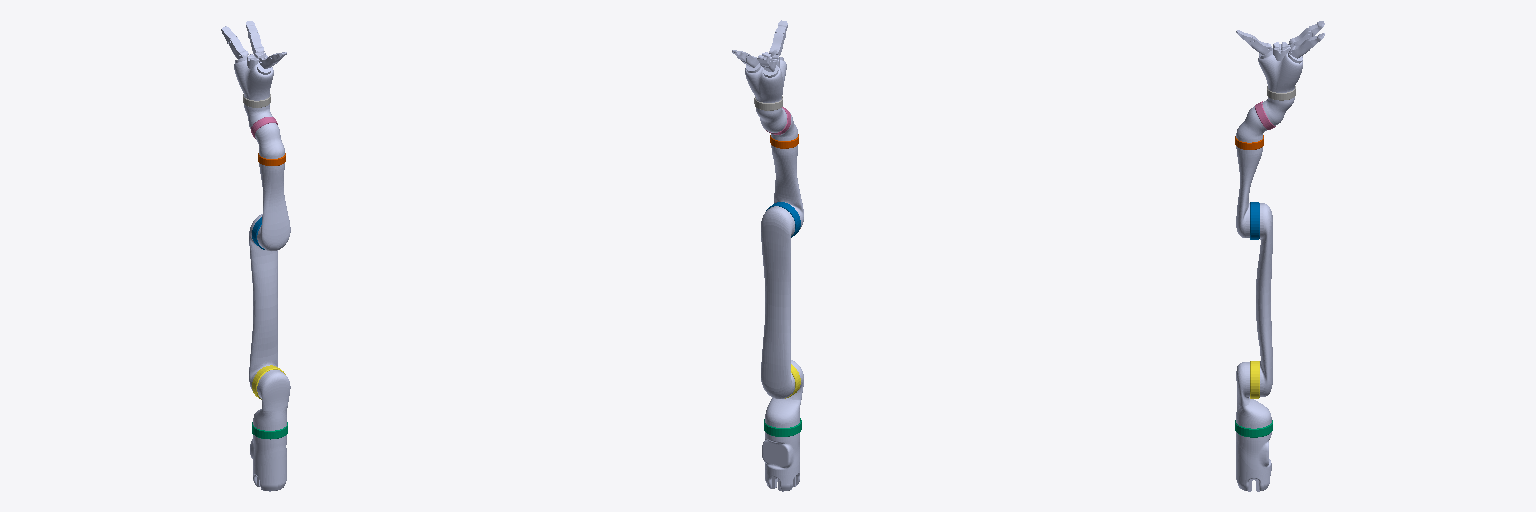
The robot description file, URDF, robot "j2n6s300":
<?xml version="1.0"?>
<!-- =================================================================================== -->
<!-- |    This document is a hand edited version of the output                         | -->
<!-- |    autogenerated by xacro from j2n6s300_standalone.xacro                        | -->
<!-- =================================================================================== -->
<!-- j2n6s300 refers to jaco v2 6DOF non-spherical 3fingers -->
<robot xmlns:body="http://playerstage.sourceforge.net/gazebo/xmlschema/#body" xmlns:controller="http://playerstage.sourceforge.net/gazebo/xmlschema/#controller" xmlns:gazebo="http://playerstage.sourceforge.net/gazebo/xmlschema/#gz" xmlns:geom="http://playerstage.sourceforge.net/gazebo/xmlschema/#geom" xmlns:interface="http://playerstage.sourceforge.net/gazebo/xmlschema/#interface" xmlns:joint="http://playerstage.sourceforge.net/gazebo/xmlschema/#joint" xmlns:model="http://playerstage.sourceforge.net/gazebo/xmlschema/#model" xmlns:physics="http://playerstage.sourceforge.net/gazebo/xmlschema/#physics" xmlns:renderable="http://playerstage.sourceforge.net/gazebo/xmlschema/#renderable" xmlns:rendering="http://playerstage.sourceforge.net/gazebo/xmlschema/#rendering" xmlns:sensor="http://playerstage.sourceforge.net/gazebo/xmlschema/#sensor" xmlns:xacro="http://ros.org/wiki/xacro" xmlns:xi="http://www.w3.org/2001/XInclude" name="j2n6s300">
  <!-- links          mesh_no
   base               0
   shoulder           1
   arm                2
   forearm            3
   wrist              4
   arm_mico           5
   arm_half1 (7dof)    6
   arm_half2 (7dof)    7
   wrist_spherical_1  8
   wrist_spherical_2  9

   hand 3 finger      55
   hand_2finger       56
   finger_proximal    57
   finger_distal      58
-->
  <!-- links          mesh_no
   base               0
   shoulder           1
   arm                2
   forearm            3
   wrist              4
   arm_mico           5
   arm_half1 (7dof)    6
   arm_half2 (7dof)    7
   wrist_spherical_1  8
   wrist_spherical_2  9

   hand 3 finger      55
   hand_2finger       56
   finger_proximal    57
   finger_distal      58
-->
  <!-- Director seems to really want a link named "base", so this is
       renamed from "root" -->
  <link name="base"/>
  <link name="j2n6s300_link_base">
    <visual>
      <geometry>
        <mesh filename="package://drake/manipulation/models/jaco_description/meshes/base.obj"/>
      </geometry>
      <material name="carbon_fiber">
        <color rgba="0.792156862745098 0.819607843137255 0.933333333333333 1"/>
      </material>
    </visual>
    <collision>
      <origin rpy="0 0 0" xyz="0 0 0.1"/>
      <geometry>
        <cylinder length="0.075" radius="0.025"/>
      </geometry>
    </collision>
    <inertial>
      <mass value="0.46784"/>
      <origin rpy="0 0 0" xyz="0 0 0.1255"/>
      <inertia ixx="0.000951270861568" ixy="0" ixz="0" iyy="0.000951270861568" iyz="0" izz="0.000374272"/>
    </inertial>
  </link>
  <joint name="j2n6s300_joint_base" type="fixed">
    <parent link="base"/>
    <child link="j2n6s300_link_base"/>
    <axis xyz="0 0 0"/>
    <limit effort="2000" lower="0" upper="0" velocity="1"/>
    <origin rpy="0 0 0" xyz="0 0 0"/>
    <dynamics damping="0.0" friction="0.0"/>
  </joint>
  <link name="j2n6s300_link_1">
    <visual>
      <geometry>
        <mesh filename="package://drake/manipulation/models/jaco_description/meshes/shoulder.obj"/>
      </geometry>
      <material name="carbon_fiber">
        <color rgba="0.792156862745098 0.819607843137255 0.933333333333333 1"/>
      </material>
    </visual>
    <visual>
      <geometry>
        <mesh filename="package://drake/manipulation/models/jaco_description/meshes/ring_big.obj"/>
      </geometry>
    </visual>
    <collision>
      <origin rpy="0 0 0" xyz="0 0 -0.06"/>
      <geometry>
        <cylinder length="0.06" radius="0.025"/>
      </geometry>
    </collision>
    <inertial>
      <mass value="0.7477"/>
      <origin xyz="0 -0.002 -0.0605"/>
      <inertia ixx="0.00152031725204" ixy="0" ixz="0" iyy="0.00152031725204" iyz="0" izz="0.00059816"/>
    </inertial>
  </link>
  <joint name="j2n6s300_joint_1" type="continuous">
    <parent link="j2n6s300_link_base"/>
    <child link="j2n6s300_link_1"/>
    <axis xyz="0 0 1"/>
    <limit effort="2000" lower="-6.28318530718" upper="6.28318530718" velocity="1"/>
    <origin rpy="0 3.14159265359 0" xyz="0 0 0.15675"/>
    <dynamics damping="0.0" friction="0.0"/>
  </joint>
  <transmission name="j2n6s300_joint_1_trans">
    <type>transmission_interface/SimpleTransmission</type>
    <joint name="j2n6s300_joint_1">
    </joint>
    <actuator name="j2n6s300_joint_1_actuator">
    </actuator>
  </transmission>
  <link name="j2n6s300_link_2">
    <visual>
      <geometry>
        <mesh filename="package://drake/manipulation/models/jaco_description/meshes/arm.obj"/>
      </geometry>
      <material name="carbon_fiber">
        <color rgba="0.792156862745098 0.819607843137255 0.933333333333333 1"/>
      </material>
    </visual>
    <visual>
      <geometry>
        <mesh filename="package://drake/manipulation/models/jaco_description/meshes/ring_big.obj"/>
      </geometry>
    </visual>
    <collision>
      <origin rpy="1.57079632679 0 0" xyz="0 -0.21 0"/>
      <geometry>
        <cylinder length="0.3" radius="0.025"/>
      </geometry>
    </collision>
    <inertial>
      <mass value="0.99"/>
      <origin xyz="0 -0.2065 -0.01"/>
      <inertia ixx="0.010502207991" ixy="0" ixz="0" iyy="0.000792" iyz="0" izz="0.010502207991"/>
    </inertial>
  </link>
  <joint name="j2n6s300_joint_2" type="revolute">
    <parent link="j2n6s300_link_1"/>
    <child link="j2n6s300_link_2"/>
    <axis xyz="0 0 1"/>
    <limit effort="2000" lower="-2.618" upper="2.613" velocity="1"/>
    <origin rpy="-1.57079632679 3.1415 3.14159265359" xyz="0 0.0016 -0.11875"/>
    <dynamics damping="0.0" friction="0.0"/>
  </joint>
  <transmission name="j2n6s300_joint_2_trans">
    <type>transmission_interface/SimpleTransmission</type>
    <joint name="j2n6s300_joint_2">
    </joint>
    <actuator name="j2n6s300_joint_2_actuator">
    </actuator>
  </transmission>
  <link name="j2n6s300_link_3">
    <visual>
      <geometry>
        <mesh filename="package://drake/manipulation/models/jaco_description/meshes/forearm.obj"/>
      </geometry>
      <material name="carbon_fiber">
        <color rgba="0.792156862745098 0.819607843137255 0.933333333333333 1"/>
      </material>
    </visual>
    <visual>
      <geometry>
        <mesh filename="package://drake/manipulation/models/jaco_description/meshes/ring_big.obj"/>
      </geometry>
    </visual>
    <collision>
      <origin rpy="1.57079632679 0 0" xyz="0 0.12 0"/>
      <geometry>
        <cylinder length="0.17" radius="0.025"/>
      </geometry>
    </collision>
    <inertial>
      <mass value="0.6763"/>
      <origin xyz="0 0.081 -0.0086"/>
      <inertia ixx="0.00142022431908" ixy="0" ixz="0" iyy="0.000304335" iyz="0" izz="0.00142022431908"/>
    </inertial>
  </link>
  <joint name="j2n6s300_joint_3" type="revolute">
    <parent link="j2n6s300_link_2"/>
    <child link="j2n6s300_link_3"/>
    <axis xyz="0 0 1"/>
    <limit effort="2000" lower="-2.618" upper="2.613" velocity="1"/>
    <origin rpy="0 3.14159265359 3.1415" xyz="0 -0.410 0"/>
    <dynamics damping="0.0" friction="0.0"/>
  </joint>
  <transmission name="j2n6s300_joint_3_trans">
    <type>transmission_interface/SimpleTransmission</type>
    <joint name="j2n6s300_joint_3">
    </joint>
    <actuator name="j2n6s300_joint_3_actuator">
    </actuator>
  </transmission>
  <link name="j2n6s300_link_4">
    <visual>
      <geometry>
        <mesh filename="package://drake/manipulation/models/jaco_description/meshes/wrist.obj"/>
      </geometry>
      <material name="carbon_fiber">
        <color rgba="0.792156862745098 0.819607843137255 0.933333333333333 1"/>
      </material>
    </visual>
    <visual>
      <geometry>
        <mesh filename="package://drake/manipulation/models/jaco_description/meshes/ring_small.obj"/>
      </geometry>
    </visual>
    <collision>
      <origin rpy="0 0 0" xyz="0 -0.01 -0.02"/>
      <geometry>
        <cylinder length="0.01" radius="0.025"/>
      </geometry>
    </collision>
    <inertial>
      <mass value="0.1785"/>
      <origin xyz="0 -0.037 -0.0642"/>
      <inertia ixx="7.73496906e-05" ixy="0" ixz="0" iyy="7.73496906e-05" iyz="0" izz="0.0001428"/>
    </inertial>
  </link>
  <joint name="j2n6s300_joint_4" type="continuous">
    <parent link="j2n6s300_link_3"/>
    <child link="j2n6s300_link_4"/>
    <axis xyz="0 0 1"/>
    <limit effort="2000" lower="-6.28318530718" upper="6.28318530718" velocity="1"/>
    <origin rpy="-1.57079632679 0 3.14159265359" xyz="0 0.2073 -0.0114"/>
    <dynamics damping="0.0" friction="0.0"/>
  </joint>
  <transmission name="j2n6s300_joint_4_trans">
    <type>transmission_interface/SimpleTransmission</type>
    <joint name="j2n6s300_joint_4">
    </joint>
    <actuator name="j2n6s300_joint_4_actuator">
    </actuator>
  </transmission>
  <link name="j2n6s300_link_5">
    <visual>
      <geometry>
        <mesh filename="package://drake/manipulation/models/jaco_description/meshes/wrist.obj"/>
      </geometry>
      <material name="carbon_fiber">
        <color rgba="0.792156862745098 0.819607843137255 0.933333333333333 1"/>
      </material>
    </visual>
    <visual>
      <geometry>
        <mesh filename="package://drake/manipulation/models/jaco_description/meshes/ring_small.obj"/>
      </geometry>
    </visual>
    <collision>
      <geometry>
        <cylinder length="0.01" radius="0.025"/>
      </geometry>
    </collision>
    <inertial>
      <mass value="0.1785"/>
      <origin xyz="0 -0.037 -0.0642"/>
      <inertia ixx="7.73496906e-05" ixy="0" ixz="0" iyy="7.73496906e-05" iyz="0" izz="0.0001428"/>
    </inertial>
  </link>
  <joint name="j2n6s300_joint_5" type="continuous">
    <parent link="j2n6s300_link_4"/>
    <child link="j2n6s300_link_5"/>
    <axis xyz="0 0 1"/>
    <limit effort="2000" lower="-6.28318530718" upper="6.28318530718" velocity="1"/>
    <origin rpy="1.0471975512 0 3.14159265359" xyz="0 -0.03703 -0.06414"/>
    <dynamics damping="0.0" friction="0.0"/>
  </joint>
  <transmission name="j2n6s300_joint_5_trans">
    <type>transmission_interface/SimpleTransmission</type>
    <joint name="j2n6s300_joint_5">
    </joint>
    <actuator name="j2n6s300_joint_5_actuator">
    </actuator>
  </transmission>
  <link name="j2n6s300_link_6">
    <visual>
      <geometry>
        <mesh filename="package://drake/manipulation/models/jaco_description/meshes/hand_3finger.obj"/>
      </geometry>
      <material name="carbon_fiber">
        <color rgba="0.792156862745098 0.819607843137255 0.933333333333333 1"/>
      </material>
    </visual>
    <visual>
      <geometry>
        <mesh filename="package://drake/manipulation/models/jaco_description/meshes/ring_small.obj"/>
      </geometry>
    </visual>
    <collision>
      <geometry>
        <cylinder length="0.01" radius="0.025"/>
      </geometry>
    </collision>
    <inertial>
      <mass value="0.727"/>
      <origin xyz="0 0 -0.06"/>
      <inertia ixx="0.0003453236187" ixy="0" ixz="0" iyy="0.0003453236187" iyz="0" izz="0.0005816"/>
    </inertial>
  </link>
  <joint name="j2n6s300_joint_6" type="continuous">
    <parent link="j2n6s300_link_5"/>
    <child link="j2n6s300_link_6"/>
    <axis xyz="0 0 1"/>
    <limit effort="2000" lower="-6.28318530718" upper="6.28318530718" velocity="1"/>
    <origin rpy="1.0471975512 0 3.14159265359" xyz="0 -0.03703 -0.06414"/>
    <dynamics damping="0.0" friction="0.0"/>
  </joint>
  <transmission name="j2n6s300_joint_6_trans">
    <type>transmission_interface/SimpleTransmission</type>
    <joint name="j2n6s300_joint_6">
    </joint>
    <actuator name="j2n6s300_joint_6_actuator">
    </actuator>
  </transmission>
  <link name="j2n6s300_end_effector">
  </link>
  <joint name="j2n6s300_joint_end_effector" type="fixed">
    <parent link="j2n6s300_link_6"/>
    <child link="j2n6s300_end_effector"/>
    <axis xyz="0 0 0"/>
    <limit effort="2000" lower="0" upper="0" velocity="1"/>
    <origin rpy="3.14159265359 0 0" xyz="0 0 -0.1600"/>
  </joint>
  <link name="j2n6s300_link_finger_1">
    <visual>
      <geometry>
        <mesh filename="package://drake/manipulation/models/jaco_description/meshes/finger_proximal.obj"/>
      </geometry>
      <material name="carbon_fiber">
        <color rgba="0.792156862745098 0.819607843137255 0.933333333333333 1"/>
      </material>
    </visual>
    <collision>
      <geometry>
        <cylinder length="0.01" radius="0.01"/>
      </geometry>
    </collision>
    <inertial>
      <mass value="0.01"/>
      <origin xyz="0.022 0 0"/>
      <inertia ixx=".0026" ixy="0" ixz="0" iyy=".0026" iyz="0" izz=".0026"/>
    </inertial>
  </link>
  <joint name="j2n6s300_joint_finger_1" type="revolute">
    <parent link="j2n6s300_link_6"/>
    <child link="j2n6s300_link_finger_1"/>
    <axis xyz="0 0 1"/>
    <origin rpy="-1.570796327 .649262481663582 1.35961148639407" xyz="0.00279 0.03126 -0.11467"/>
    <limit effort="2000" lower="0" upper="2" velocity="1"/>
  </joint>
  <transmission name="j2n6s300_joint_finger_1_trans">
    <type>transmission_interface/SimpleTransmission</type>
    <joint name="j2n6s300_joint_finger_1">
    </joint>
    <actuator name="j2n6s300_joint_finger_1_actuator">
      <mechanicalReduction>1</mechanicalReduction>
    </actuator>
  </transmission>
  <link name="j2n6s300_link_finger_tip_1">
    <visual>
      <geometry>
        <mesh filename="package://drake/manipulation/models/jaco_description/meshes/finger_distal.obj"/>
      </geometry>
      <material name="carbon_fiber">
        <color rgba="0.792156862745098 0.819607843137255 0.933333333333333 1"/>
      </material>
    </visual>
    <collision>
      <geometry>
        <cylinder length="0.01" radius="0.01"/>
      </geometry>
    </collision>
    <inertial>
      <mass value="0.01"/>
      <origin xyz="0.022 0 0"/>
      <inertia ixx=".0026" ixy="0" ixz="0" iyy=".0026" iyz="0" izz=".0026"/>
    </inertial>
  </link>
  <joint name="j2n6s300_joint_finger_tip_1" type="fixed">
    <parent link="j2n6s300_link_finger_1"/>
    <child link="j2n6s300_link_finger_tip_1"/>
    <axis xyz="0 0 1"/>
    <origin rpy="0 0 0" xyz="0.044 -0.003 0"/>
    <limit effort="2000" lower="0" upper="2" velocity="1"/>
  </joint>
  <link name="j2n6s300_link_finger_2">
    <visual>
      <geometry>
        <mesh filename="package://drake/manipulation/models/jaco_description/meshes/finger_proximal.obj"/>
      </geometry>
      <material name="carbon_fiber">
        <color rgba="0.792156862745098 0.819607843137255 0.933333333333333 1"/>
      </material>
    </visual>
    <collision>
      <geometry>
        <cylinder length="0.01" radius="0.01"/>
      </geometry>
    </collision>
    <inertial>
      <mass value="0.01"/>
      <origin xyz="0.022 0 0"/>
      <inertia ixx=".0026" ixy="0" ixz="0" iyy=".0026" iyz="0" izz=".0026"/>
    </inertial>
  </link>
  <joint name="j2n6s300_joint_finger_2" type="revolute">
    <parent link="j2n6s300_link_6"/>
    <child link="j2n6s300_link_finger_2"/>
    <axis xyz="0 0 1"/>
    <origin rpy="-1.570796327 .649262481663582 -1.38614049188413" xyz="0.02226 -0.02707 -0.11482"/>
    <limit effort="2000" lower="0" upper="2" velocity="1"/>
  </joint>
  <transmission name="j2n6s300_joint_finger_2_trans">
    <type>transmission_interface/SimpleTransmission</type>
    <joint name="j2n6s300_joint_finger_2">
    </joint>
    <actuator name="j2n6s300_joint_finger_2_actuator">
      <mechanicalReduction>1</mechanicalReduction>
    </actuator>
  </transmission>
  <link name="j2n6s300_link_finger_tip_2">
    <visual>
      <geometry>
        <mesh filename="package://drake/manipulation/models/jaco_description/meshes/finger_distal.obj"/>
      </geometry>
      <material name="carbon_fiber">
        <color rgba="0.792156862745098 0.819607843137255 0.933333333333333 1"/>
      </material>
    </visual>
    <collision>
      <geometry>
        <cylinder length="0.01" radius="0.01"/>
      </geometry>
    </collision>
    <inertial>
      <mass value="0.01"/>
      <origin xyz="0.022 0 0"/>
      <inertia ixx=".0026" ixy="0" ixz="0" iyy=".0026" iyz="0" izz=".0026"/>
    </inertial>
  </link>
  <joint name="j2n6s300_joint_finger_tip_2" type="fixed">
    <parent link="j2n6s300_link_finger_2"/>
    <child link="j2n6s300_link_finger_tip_2"/>
    <axis xyz="0 0 1"/>
    <origin rpy="0 0 0" xyz="0.044 -0.003 0"/>
    <limit effort="2000" lower="0" upper="2" velocity="1"/>
  </joint>
  <link name="j2n6s300_link_finger_3">
    <visual>
      <geometry>
        <mesh filename="package://drake/manipulation/models/jaco_description/meshes/finger_proximal.obj"/>
      </geometry>
      <material name="carbon_fiber">
        <color rgba="0.792156862745098 0.819607843137255 0.933333333333333 1"/>
      </material>
    </visual>
    <collision>
      <geometry>
        <cylinder length="0.01" radius="0.01"/>
      </geometry>
    </collision>
    <inertial>
      <mass value="0.01"/>
      <origin xyz="0.022 0 0"/>
      <inertia ixx=".0026" ixy="0" ixz="0" iyy=".0026" iyz="0" izz=".0026"/>
    </inertial>
  </link>
  <joint name="j2n6s300_joint_finger_3" type="revolute">
    <parent link="j2n6s300_link_6"/>
    <child link="j2n6s300_link_finger_3"/>
    <axis xyz="0 0 1"/>
    <origin rpy="-1.570796327 .649262481663582 -1.75545216211587" xyz="-0.02226 -0.02707 -0.11482"/>
    <limit effort="2000" lower="0" upper="2" velocity="1"/>
  </joint>
  <transmission name="j2n6s300_joint_finger_3_trans">
    <type>transmission_interface/SimpleTransmission</type>
    <joint name="j2n6s300_joint_finger_3">
    </joint>
    <actuator name="j2n6s300_joint_finger_3_actuator">
      <mechanicalReduction>1</mechanicalReduction>
    </actuator>
  </transmission>
  <link name="j2n6s300_link_finger_tip_3">
    <visual>
      <geometry>
        <mesh filename="package://drake/manipulation/models/jaco_description/meshes/finger_distal.obj"/>
      </geometry>
      <material name="carbon_fiber">
        <color rgba="0.792156862745098 0.819607843137255 0.933333333333333 1"/>
      </material>
    </visual>
    <collision>
      <geometry>
        <cylinder length="0.01" radius="0.01"/>
      </geometry>
    </collision>
    <inertial>
      <mass value="0.01"/>
      <origin xyz="0.022 0 0"/>
      <inertia ixx=".0026" ixy="0" ixz="0" iyy=".0026" iyz="0" izz=".0026"/>
    </inertial>
  </link>
  <joint name="j2n6s300_joint_finger_tip_3" type="fixed">
    <parent link="j2n6s300_link_finger_3"/>
    <child link="j2n6s300_link_finger_tip_3"/>
    <axis xyz="0 0 1"/>
    <origin rpy="0 0 0" xyz="0.044 -0.003 0"/>
    <limit effort="2000" lower="0" upper="2" velocity="1"/>
  </joint>
</robot>

--- Facts derived from the render (not from the file) ---
3 views of the same robot in one strip: view 1: azimuth 30°, elevation 25°; view 2: azimuth 150°, elevation 25°; view 3: azimuth 270°, elevation 25° (orthographic).
Model j2n6s300 with 15 links and 14 joints (5 revolute, 4 continuous, 5 fixed), rooted at base, posed all joints at 0.
Visible links, largest first — view 1: j2n6s300_link_2, j2n6s300_link_3, j2n6s300_link_1, j2n6s300_link_base, j2n6s300_link_6, j2n6s300_link_4, j2n6s300_link_5; view 2: j2n6s300_link_2, j2n6s300_link_base, j2n6s300_link_3, j2n6s300_link_6, j2n6s300_link_1, j2n6s300_link_5; view 3: j2n6s300_link_2, j2n6s300_link_6, j2n6s300_link_base, j2n6s300_link_1, j2n6s300_link_3, j2n6s300_link_4, j2n6s300_link_5.
Boxes of the visible links, x1,y1,x2,y2 form: j2n6s300_link_2: (249,214,285,399); j2n6s300_link_3: (252,163,290,251); j2n6s300_link_1: (252,370,290,439); j2n6s300_link_base: (250,435,286,491); j2n6s300_link_6: (234,49,273,107); j2n6s300_link_4: (255,123,285,165); j2n6s300_link_5: (244,104,277,138); j2n6s300_link_2: (761,206,800,398); j2n6s300_link_base: (762,432,799,491); j2n6s300_link_3: (766,145,803,237); j2n6s300_link_6: (745,50,786,110); j2n6s300_link_1: (764,360,803,436); j2n6s300_link_5: (756,107,790,134); j2n6s300_link_2: (1250,203,1272,398); j2n6s300_link_6: (1258,39,1302,100); j2n6s300_link_base: (1236,432,1271,491); j2n6s300_link_1: (1235,362,1272,437); j2n6s300_link_3: (1236,146,1262,239); j2n6s300_link_4: (1235,106,1266,149); j2n6s300_link_5: (1255,97,1294,129).
Size in the robot's own frame: 0.0927 by 0.211 by 1.18 metres.
19 mesh visuals loaded from 10 distinct referenced files (10 OBJ).
